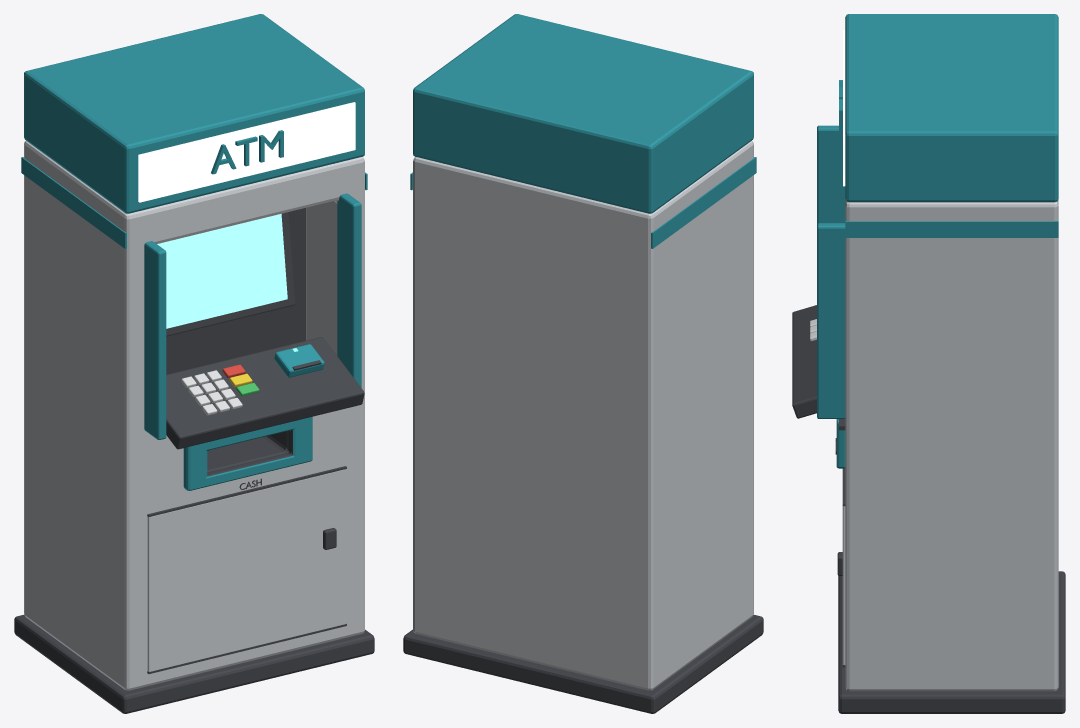
Rendered from atm.glb.
3 renders of one model, left to right at view 1: azimuth 30°, elevation 25°; view 2: azimuth 150°, elevation 25°; view 3: azimuth 270°, elevation 25°, orthographic. The views are drawn at different scales.
Visible parts, largest first — view 1: Body, SignBox, SafeDoor, Console, Screen, SignPanel, Plinth, BayLining, WingL, WingR, CashBezel, SideStripeL (+4 smaller); view 2: Body, SignBox, Plinth, SideStripeL; view 3: Body, SignBox, Plinth, WingR, SideStripeR, WingL, Console, SafeDoor, SignPanel.
Part boxes in pixels (x1,y1,x2,y2): Body: (24, 141, 364, 690); SignBox: (24, 14, 364, 213); SafeDoor: (147, 469, 346, 671); Console: (166, 337, 364, 449); Screen: (157, 213, 287, 328); SignPanel: (138, 102, 355, 202); Plinth: (14, 614, 374, 713); BayLining: (166, 208, 305, 374); WingL: (144, 241, 166, 439); WingR: (337, 193, 361, 387); CashBezel: (183, 416, 312, 490); SideStripeL: (21, 157, 126, 248); Body: (413, 141, 753, 690); SignBox: (413, 14, 753, 213); Plinth: (403, 615, 763, 713); SideStripeL: (651, 157, 756, 248); Body: (845, 199, 1058, 691); SignBox: (845, 14, 1058, 202); Plinth: (838, 571, 1065, 713); WingR: (817, 223, 845, 418); SideStripeR: (845, 221, 1058, 237); WingL: (817, 125, 845, 224); Console: (792, 305, 816, 418); SafeDoor: (842, 506, 845, 665); SignPanel: (843, 30, 845, 186).
Size of the model in its own units: 0.84 by 1.8 by 0.7695.
